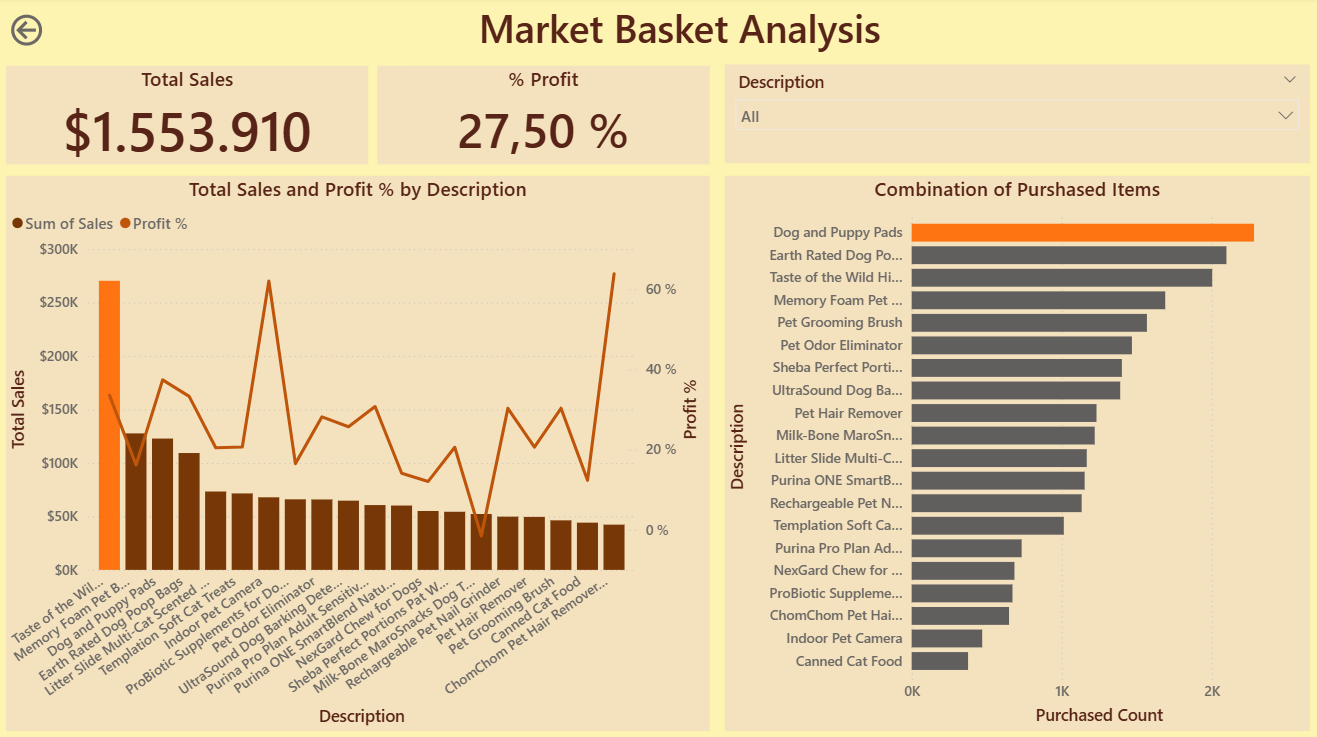

What the dashboard file says about the page in this screenshot:
{"tool":"powerbi","page":{"name":"Market Basket Analysis","canvas":[1280,720],"ordinal":2},"visuals":[{"type":"lineStackedColumnComboChart","title":"Total Sales and Profit % by Description","fields":{"Category":["Sales.Description"],"Y":["Sum(Sales.Sales)"],"Y2":["New_Measures.Profit %"]},"box":[9.7,172.5,679.2,535.7],"z":0},{"type":"clusteredBarChart","title":"Combination of Purshased Items","fields":{"Category":["Market Basquet.Description"],"Y":["CountNonNull(Market Basquet.Quantity)"]},"box":[703.4,172.5,564.6,535.7],"z":1000},{"type":"card","title":"Total Sales","fields":{"Values":["Sum(Sales.Sales)"]},"box":[9.7,66.4,349.9,95.3],"z":2000},{"type":"card","title":"% Profit","fields":{"Values":["New_Measures.Profit %"]},"box":[368,66.4,320.9,95.3],"z":3000},{"type":"textbox","box":[399.3,0,521.2,65.1],"z":4000},{"type":"slicer","fields":{"Values":["Sales.Description"]},"box":[703.4,65.1,564.6,95.3],"z":5000},{"type":"actionButton","box":[9.7,12.1,100.1,39.8],"z":5001}]}

Visuals, with their boxes in screenshot pixels (x1, y1, x2, y2), scaled from the page's 1280x720 canvas onto the 1317x737 screenshot:
"Total Sales and Profit % by Description" lineStackedColumnComboChart: <region>10, 177, 709, 725</region>
"Combination of Purshased Items" clusteredBarChart: <region>724, 177, 1305, 725</region>
"Total Sales" card: <region>10, 68, 370, 166</region>
"% Profit" card: <region>379, 68, 709, 166</region>
textbox: <region>411, 0, 947, 67</region>
slicer - Sales.Description: <region>724, 67, 1305, 164</region>
actionButton: <region>10, 12, 113, 53</region>
